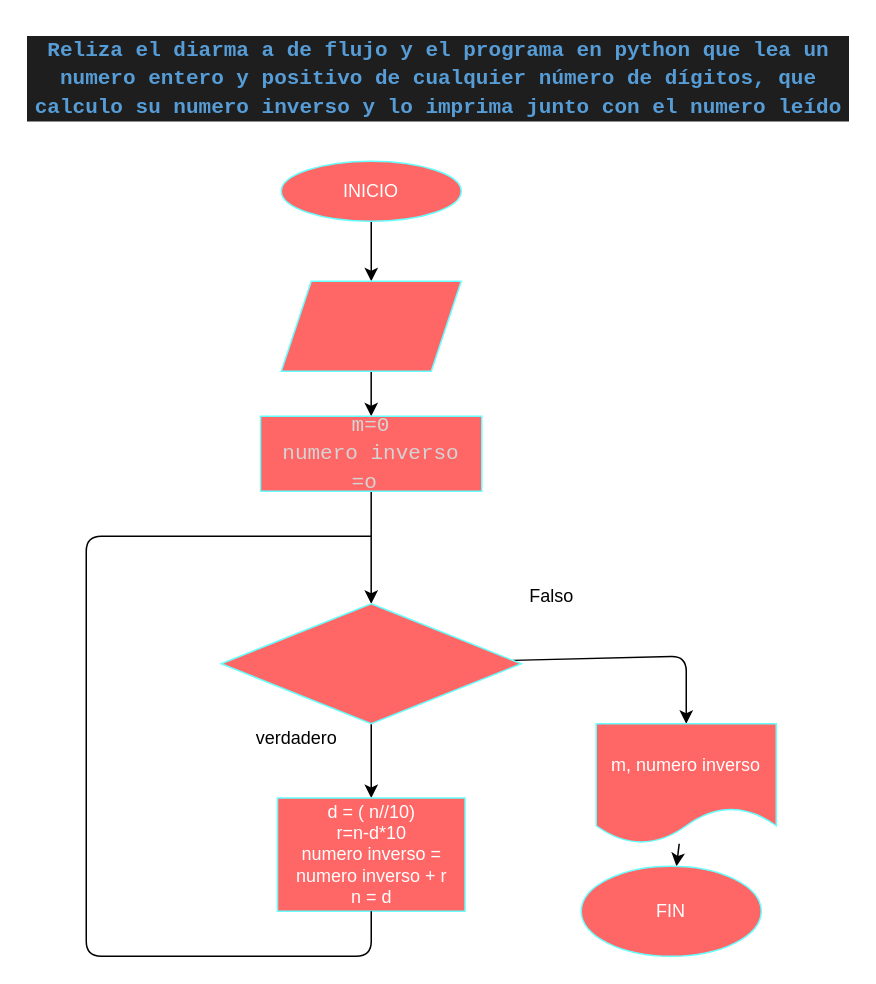
Some shapes in this 876 by 984 pixel diagram are drawn without their labels. The centre of each missing label's shape, as x and y in pixels:
n != 0: (x=370, y=663)
numero entero_positivo: (x=370, y=325)
